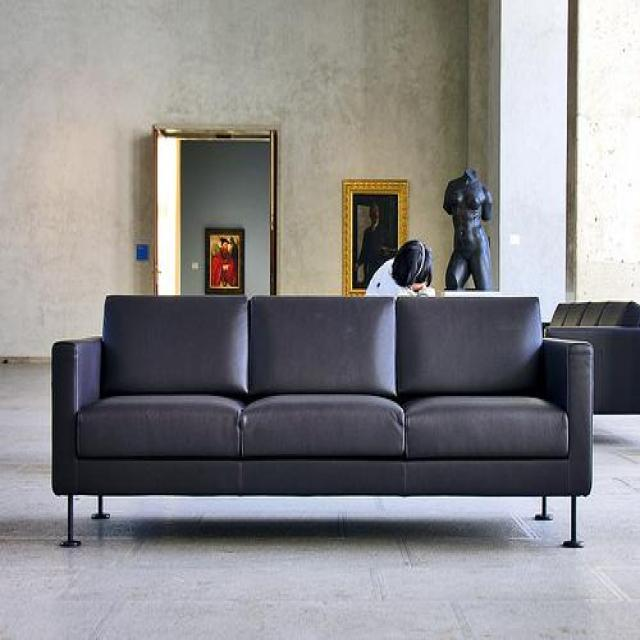sofa: (51, 292, 595, 556)
